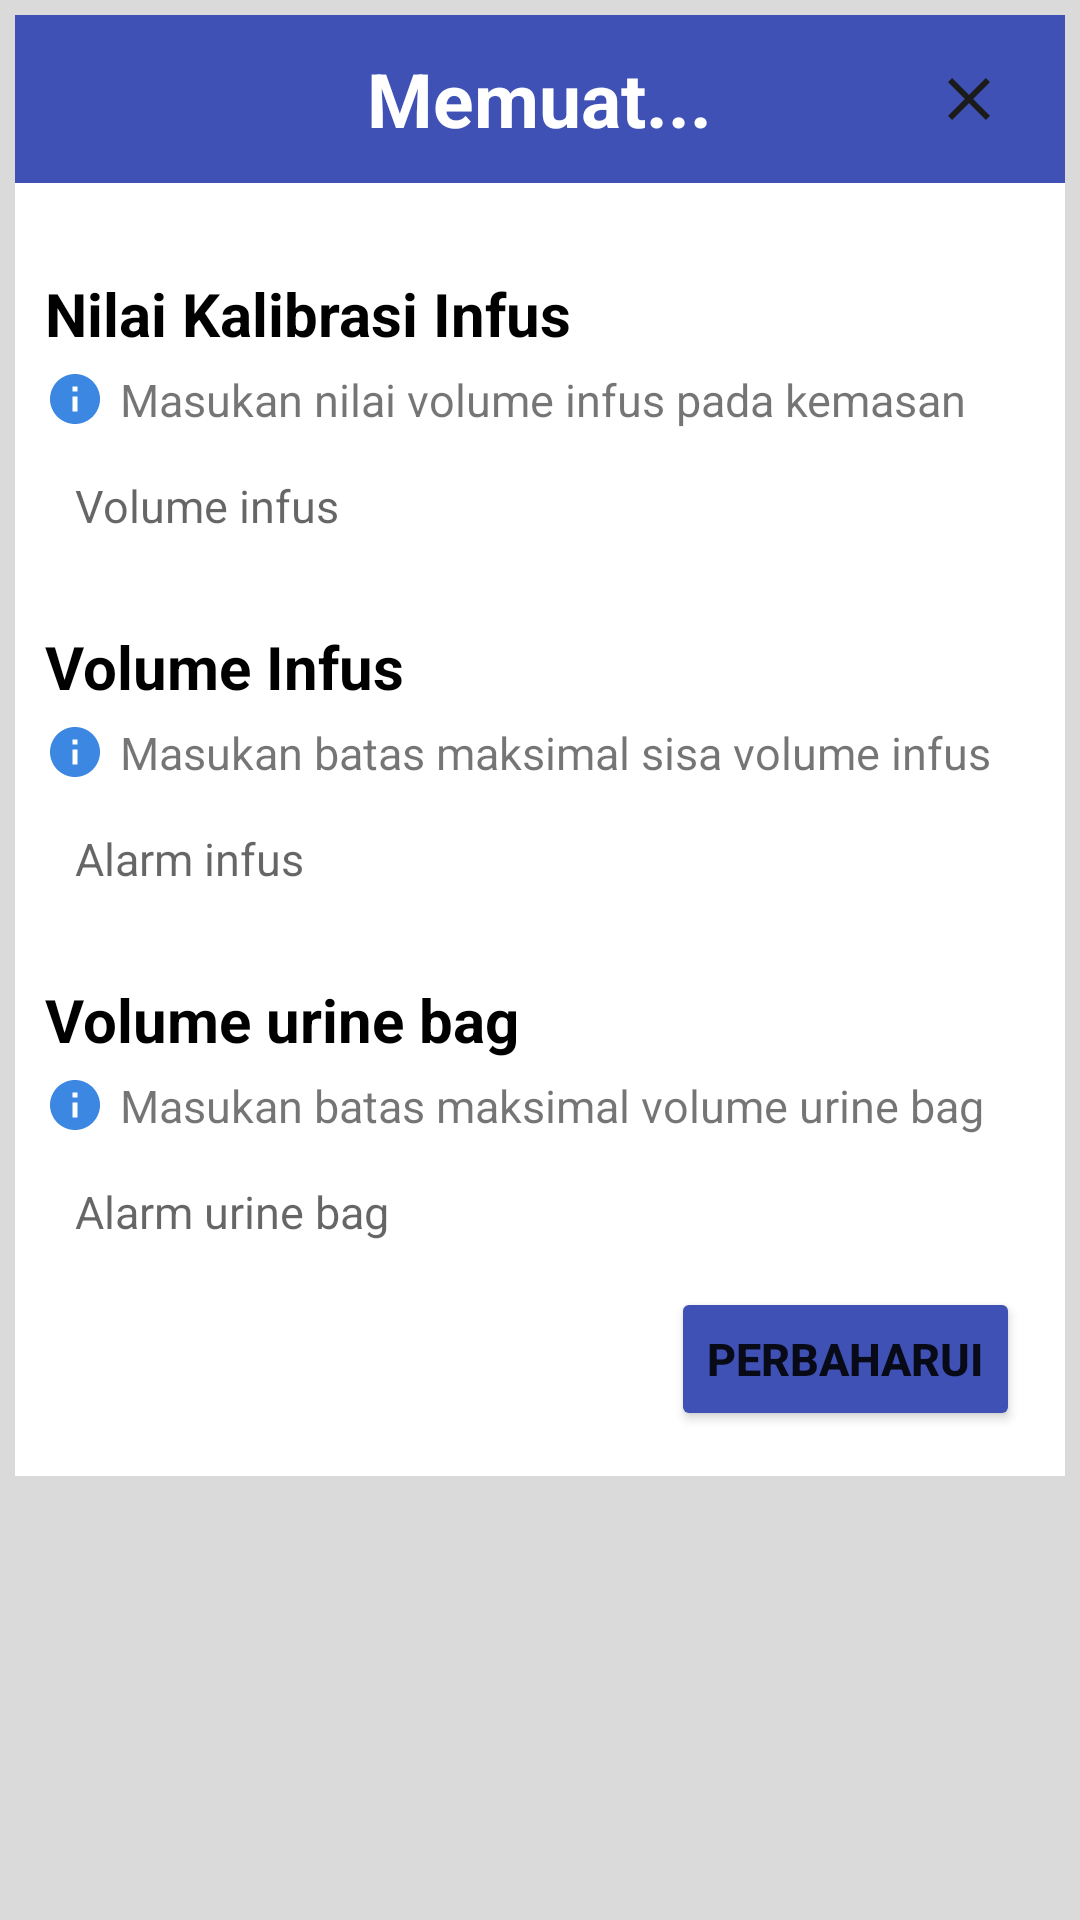

Icons on this 1080*1920 Android screen, each with the point to tap as [x,y]:
close: [969,99]
info: [75,399], [75,752], [75,1105]
